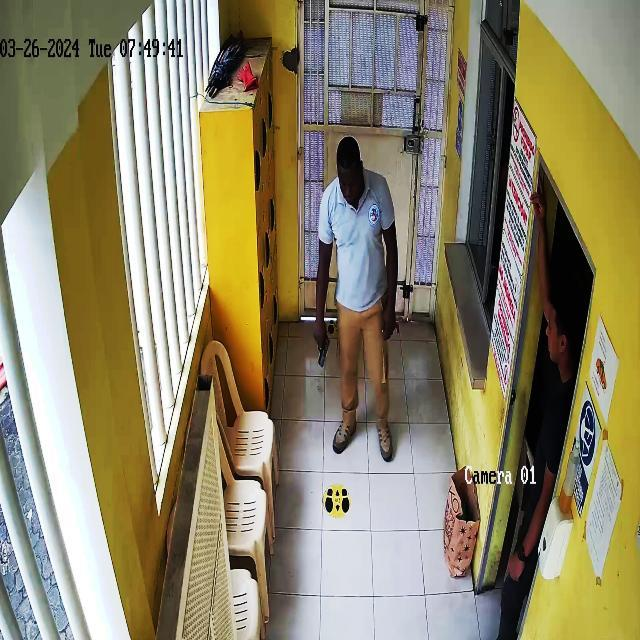Gun: (311, 314, 341, 377)
